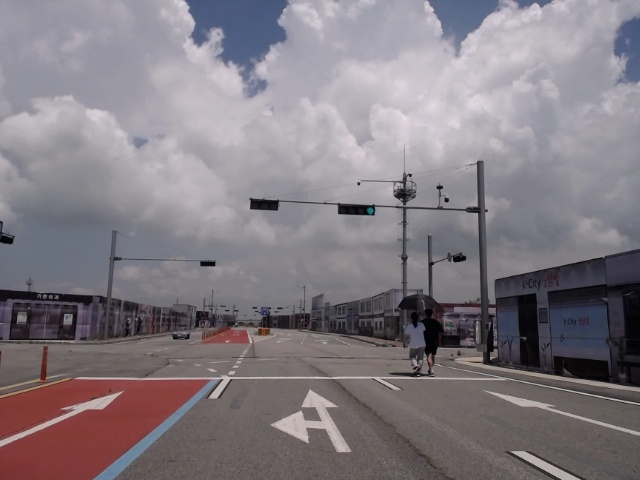straight_green_4: (338, 204, 376, 216)
